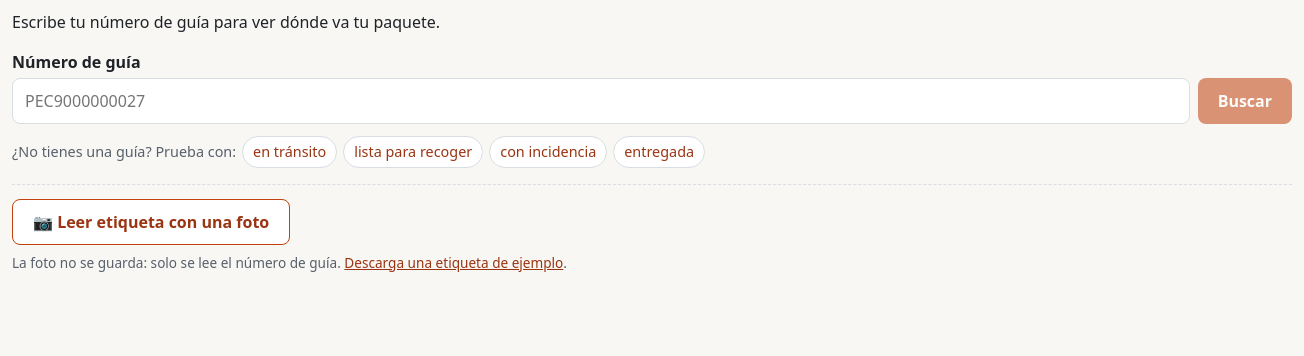
Scenario: Rastreo › si la guía está mal escrita, muestra el mensaje del backend
Step 1. Type "PEC2610190042" into the field labelled "Número de guía" → (601, 101), box [12,78,1190,124]
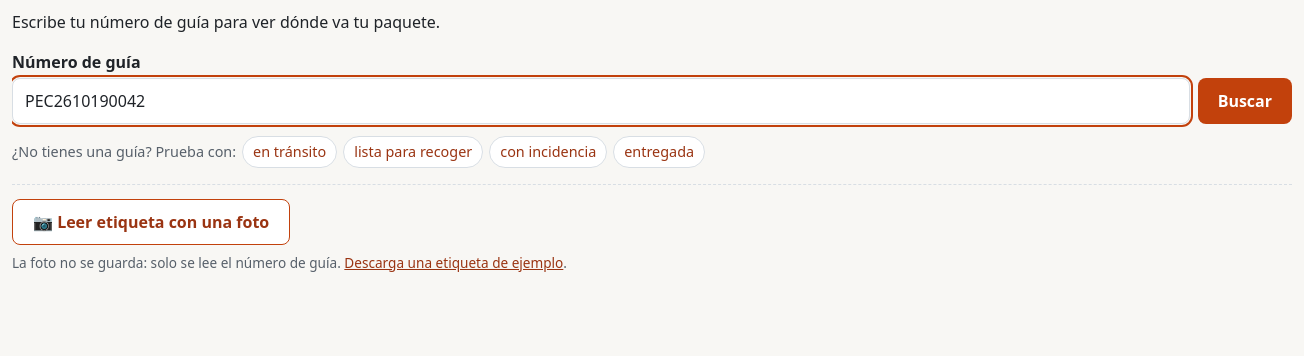
Step 2. Click the button "Buscar" → (1245, 101), box [1198,78,1292,124]
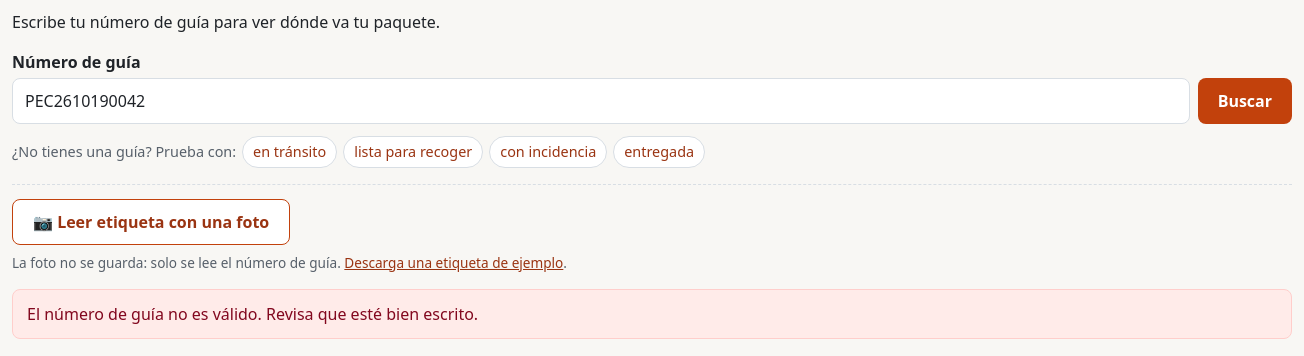
Check: the message shows "Revisa que esté bien escrito", box [27,303,478,325]
